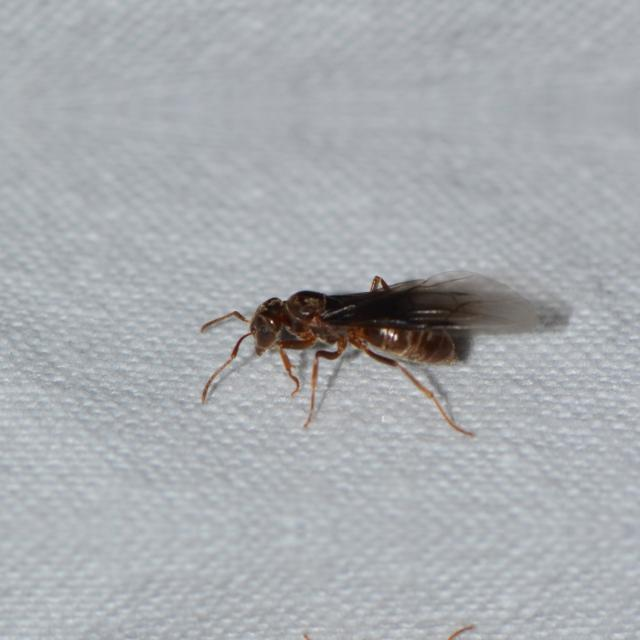Lasius: (197, 242, 555, 394)
